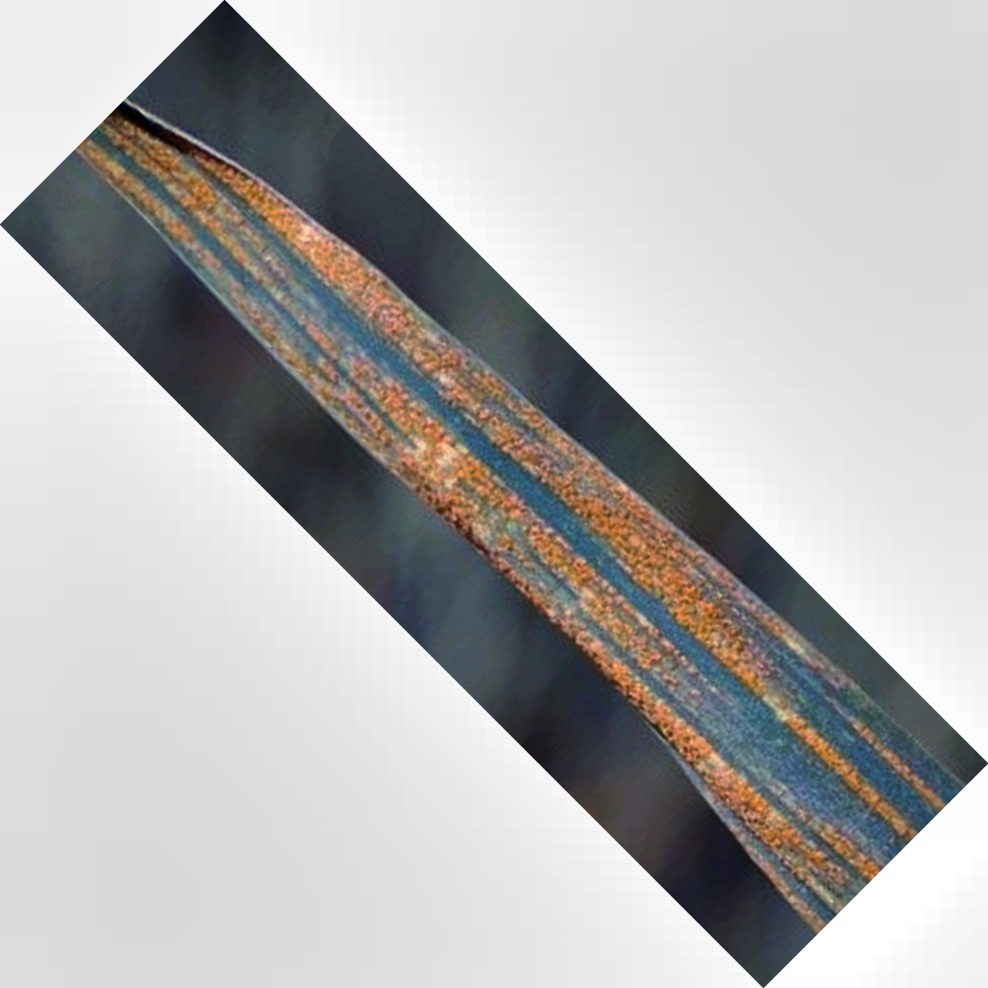Leaf Rust: (246, 231, 829, 833)
